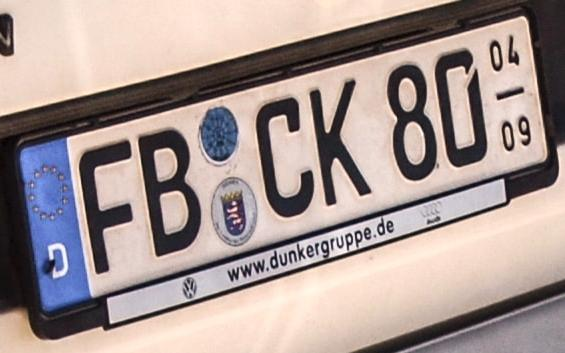0: (431, 46, 491, 169)
8: (385, 59, 439, 184)
B: (135, 124, 205, 260)
C: (252, 92, 318, 220)
F: (75, 135, 136, 275)
K: (307, 77, 375, 207)
